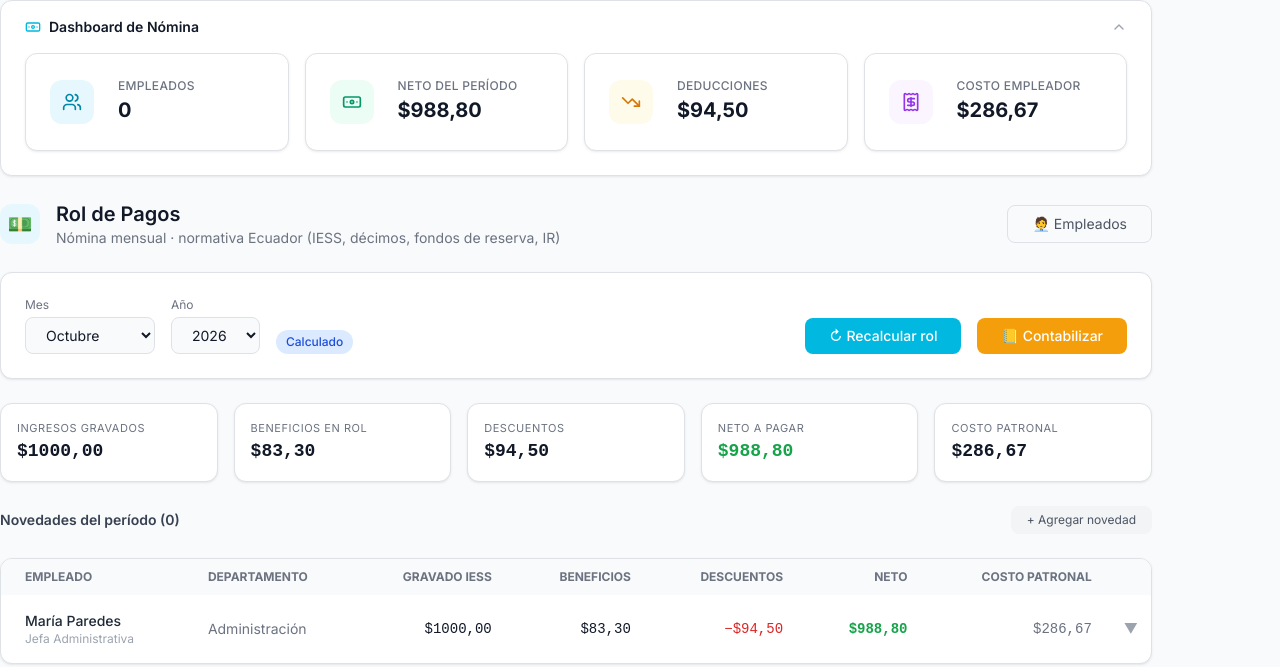
Test case: PayrollPage (Rol de Pagos) › al expandir un rol muestra ingresos, descuentos y costo patronal
What coordinates should you click on to do the following:
click the text "María Paredes"
I would click on:
 (73, 620)
Its box is [25,612,121,628].
(page scrolled)
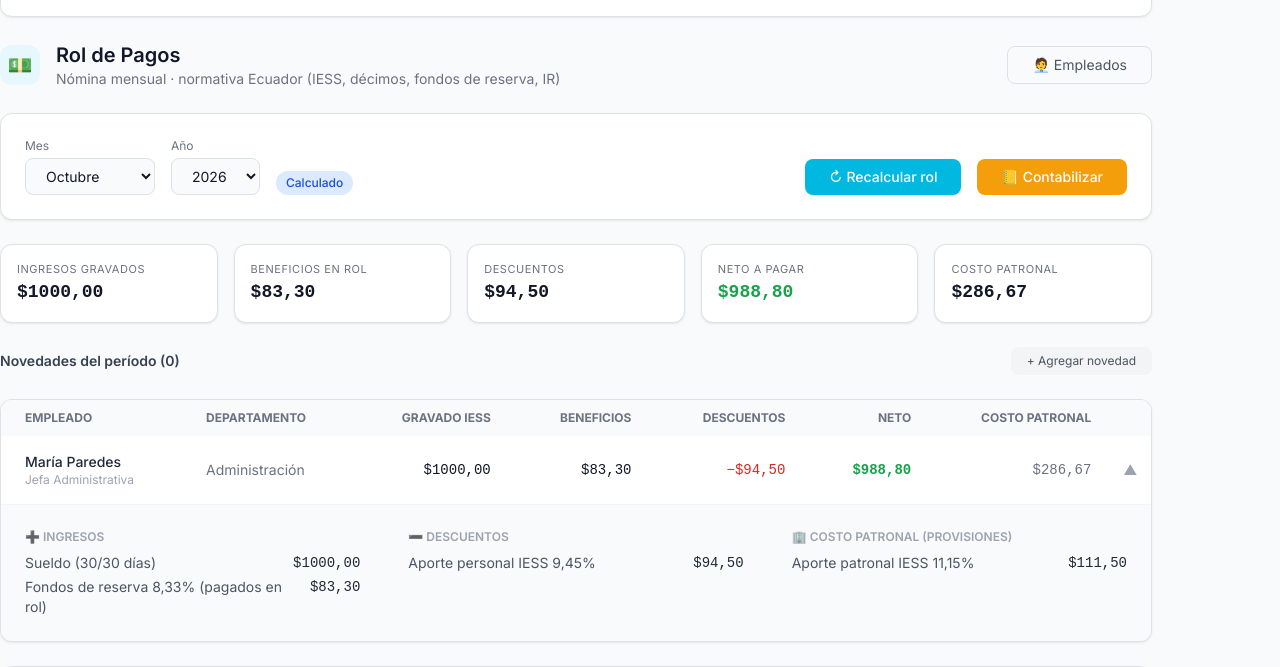
Result: the text "Aporte personal IESS 9,45%" is shown at [408,552,596,572]
Result: the text "Aporte patronal IESS 11,15%" is shown at [792,552,974,572]
Result: the text "Fondos de reserva 8,33% (pagados en rol)" is shown at [25,576,294,616]
